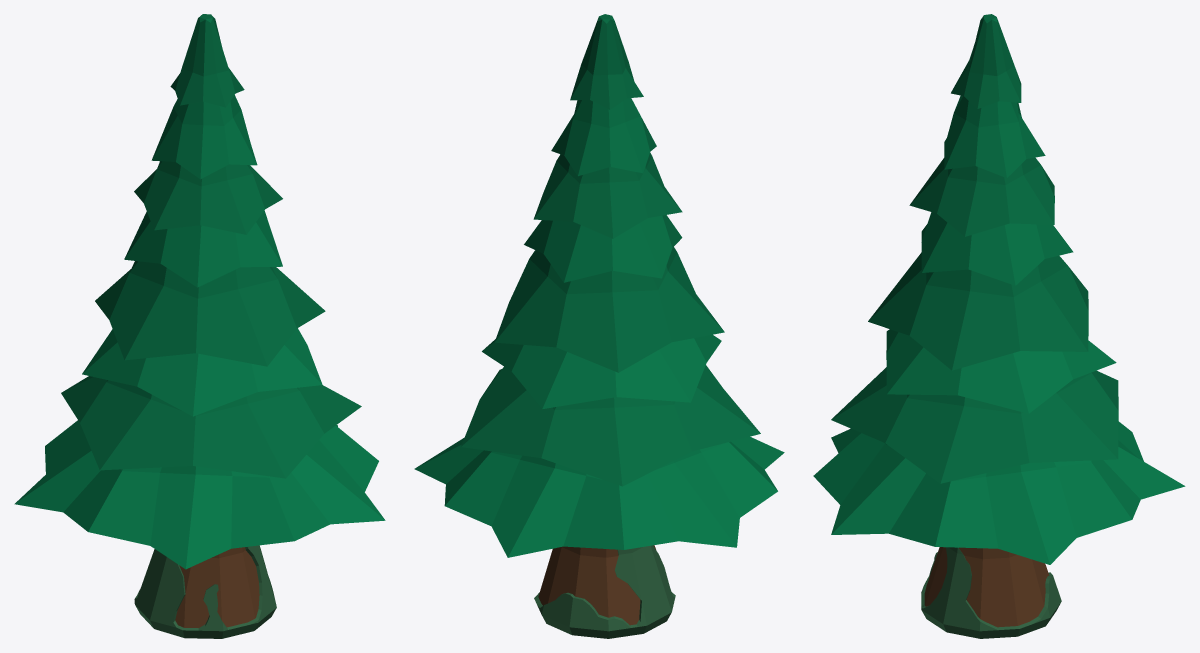
Rendered from Tree3.fbx.
The picture shows the model from 3 angles, left to right: view 1: azimuth 30°, elevation 25°; view 2: azimuth 150°, elevation 25°; view 3: azimuth 270°, elevation 25°; orthographic projection.
Visible parts, largest first — view 1: Cylinder.004; view 2: Cylinder.004; view 3: Cylinder.004.
Part boxes in pixels (x1,y1,x2,y2): Cylinder.004: [14, 14, 385, 638]; Cylinder.004: [414, 14, 784, 638]; Cylinder.004: [813, 14, 1185, 638].
Size of the model in its own units: 550 by 977 by 549.
